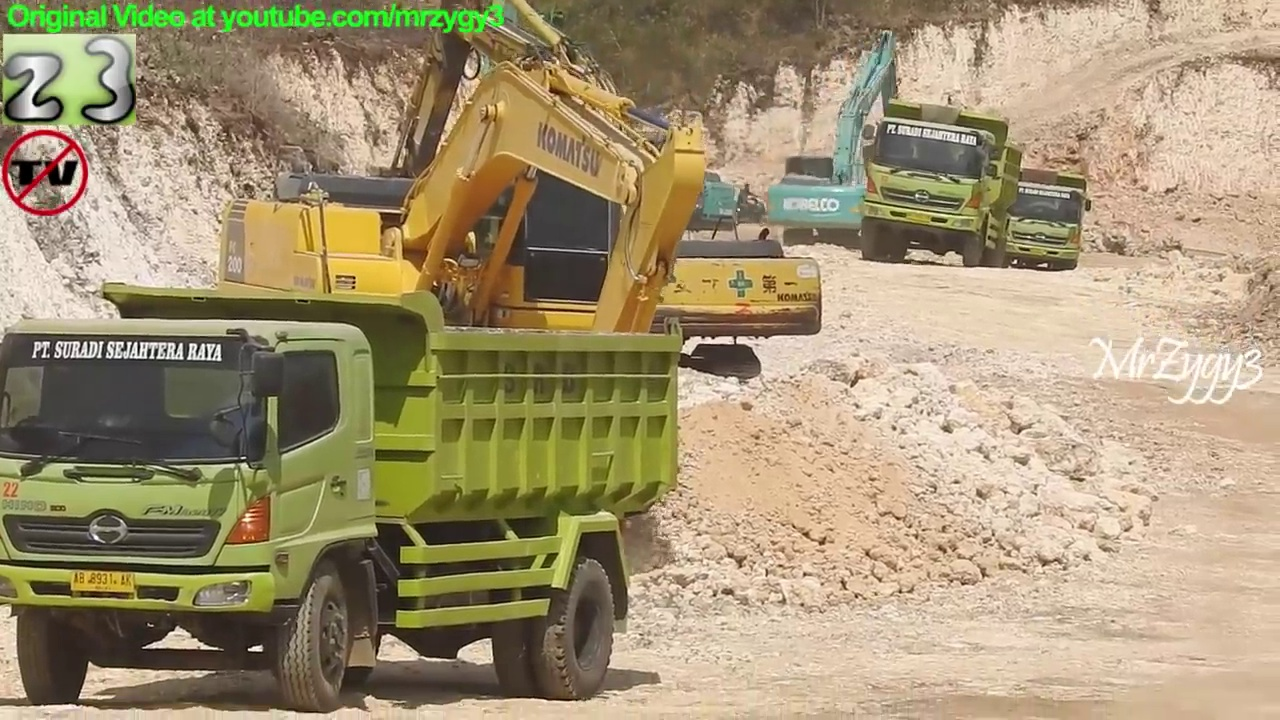excavator: (168, 50, 717, 558), (312, 1, 830, 403), (448, 1, 753, 295), (760, 24, 924, 254)
truck: (1, 279, 686, 717), (857, 92, 1029, 275), (975, 162, 1098, 278)
